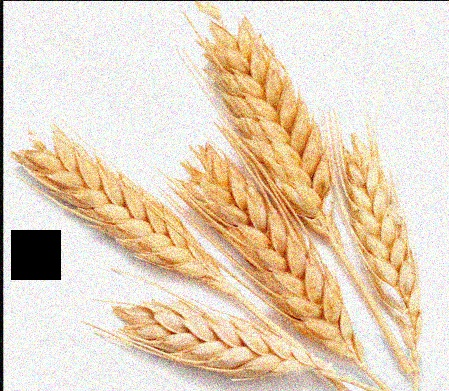wheat: (4, 116, 251, 318), (178, 138, 377, 372), (196, 7, 343, 241), (101, 292, 367, 380), (339, 144, 430, 380)
